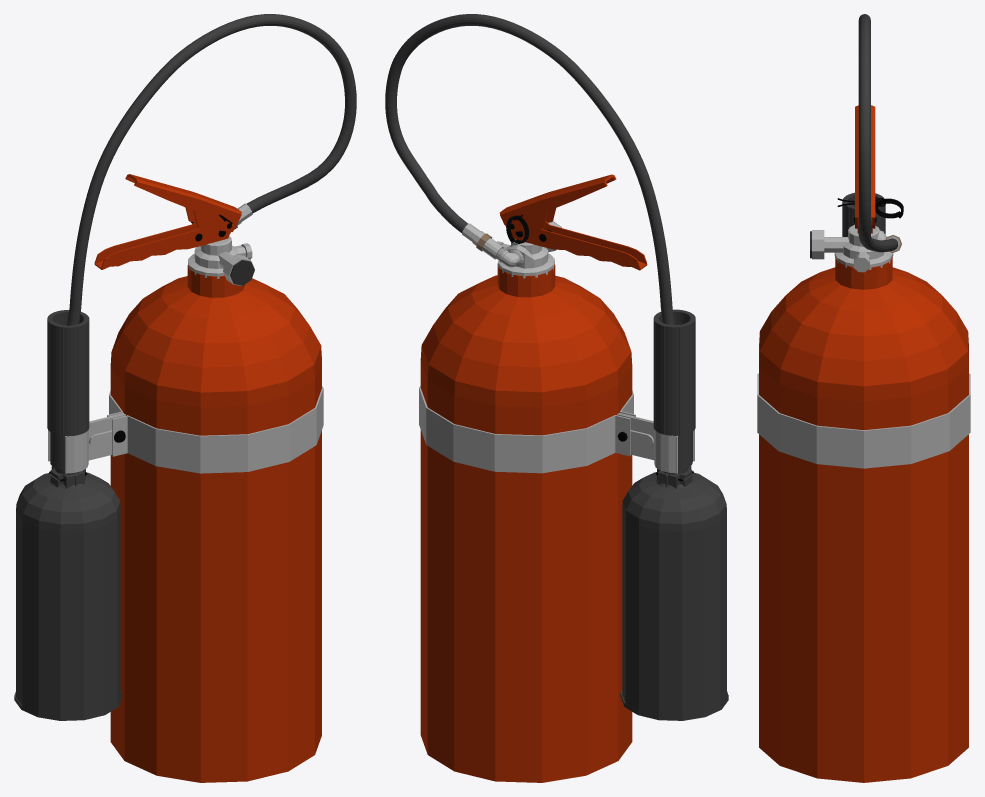
Rendered from fireExt3.fbx.
3 views of the same model, side by side, from view 1: azimuth 30°, elevation 25°; view 2: azimuth 150°, elevation 25°; view 3: azimuth 270°, elevation 25° (orthographic).
Visible parts, largest first — view 1: Base_01, Base_04, Base_04.002, Base_02, Base_04.001; view 2: Base_01, Base_04, Base_04.002, Base_02, Base_04.001; view 3: Base_01, Base_02, Base_04.002, Base_05.
Part boxes in pixels (x1,y1,x2,y2): Base_01: (48,174,323,782); Base_04: (14,466,122,720); Base_04.002: (47,17,250,436); Base_02: (246,14,356,213); Base_04.001: (49,432,87,481); Base_01: (419,174,694,782); Base_04: (620,466,728,720); Base_04.002: (491,17,695,435); Base_02: (385,14,494,232); Base_04.001: (655,431,693,481); Base_01: (757,105,970,782); Base_02: (858,28,898,252); Base_04.002: (842,14,885,236); Base_05: (837,198,903,218).
Bounding box in the file's own units: 284 × 577 × 154.
